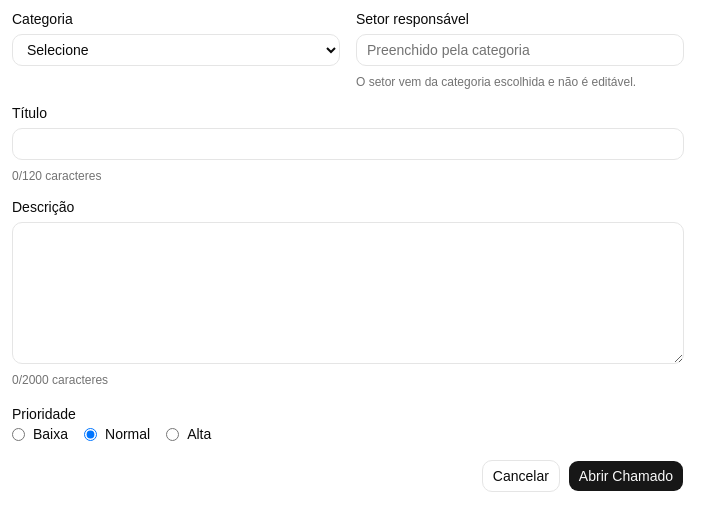
Test: NewTicketForm (Tela 4, US1.2, BR9.3) › shows the sector of the chosen category, without letting it be edited (AC1.2.1)
The width and height of the screenshot is (701, 509).
expect the field labelled "Setor responsável" is empty: met, box [356,34,684,66]
Select "Documentos" in the dropdown labelled "Categoria" at coordinates (176, 50), box [12,34,340,66]
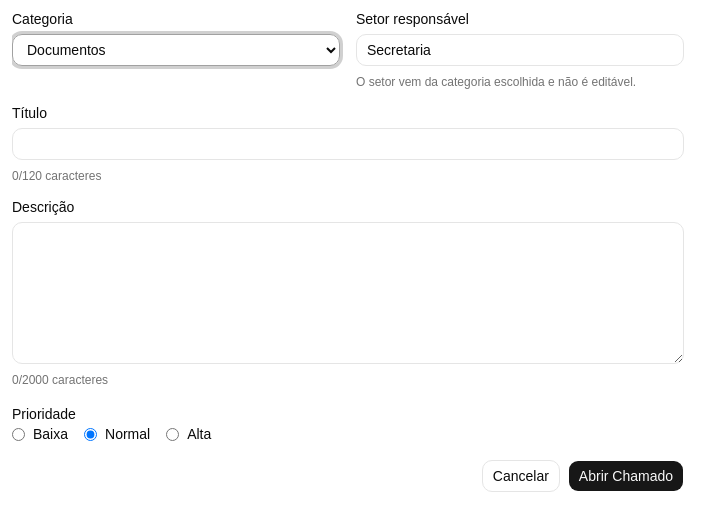
expect the field labelled "Setor responsável" holds "Secretaria": met, box [356,34,684,66]
